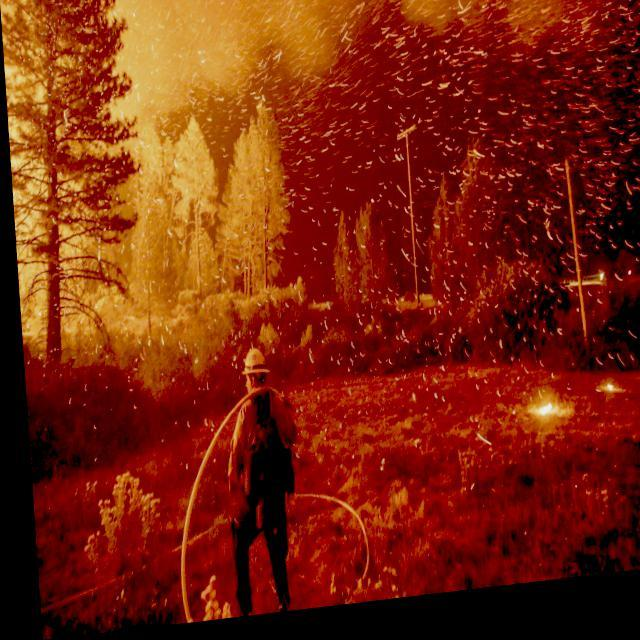Fire: (516, 405, 554, 435)
